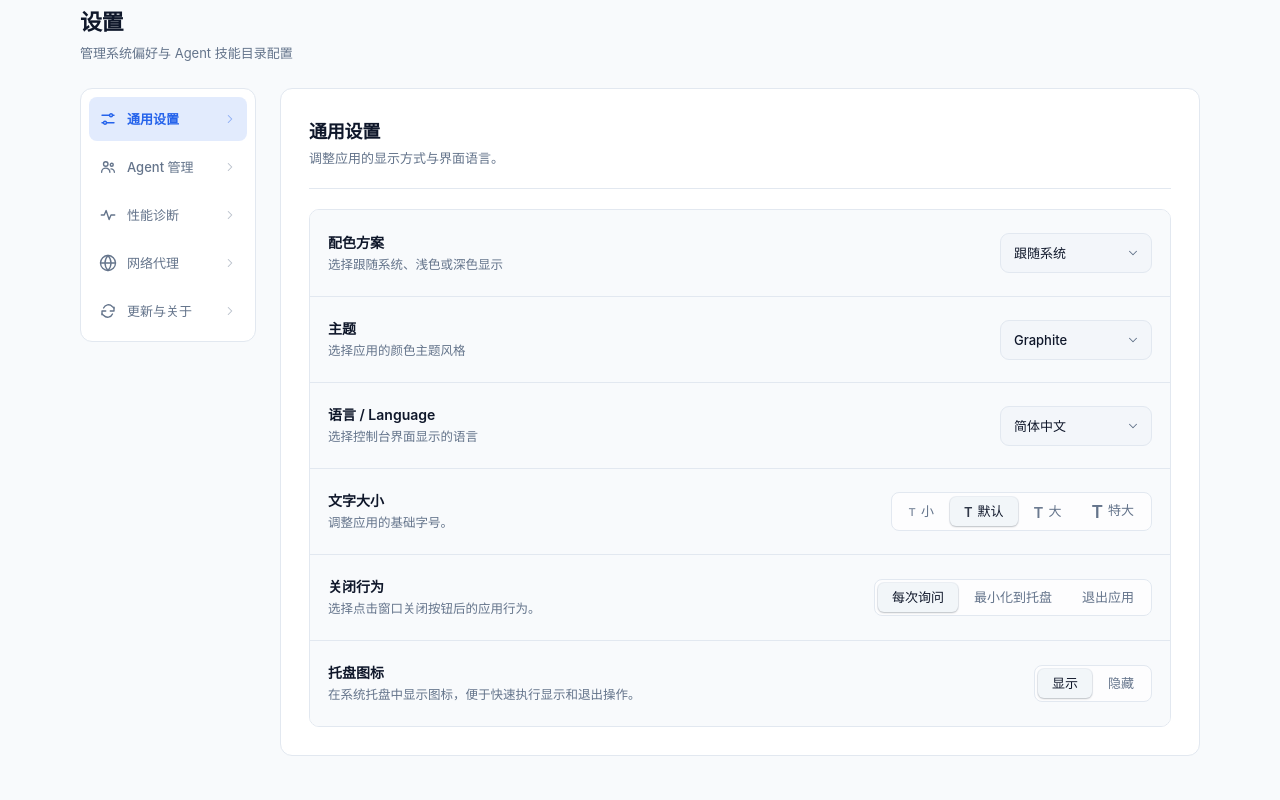
Test: Settings route & i18n / Theme Switcher › uses category navigation and displays one settings panel at a time
Check: the navigation bar named "设置分类" is shown, box [80, 88, 256, 342]
Check: the heading "配色方案" is shown, box [328, 234, 384, 251]
Click the button "Agent 管理": click(168, 166) [89, 144, 247, 188]
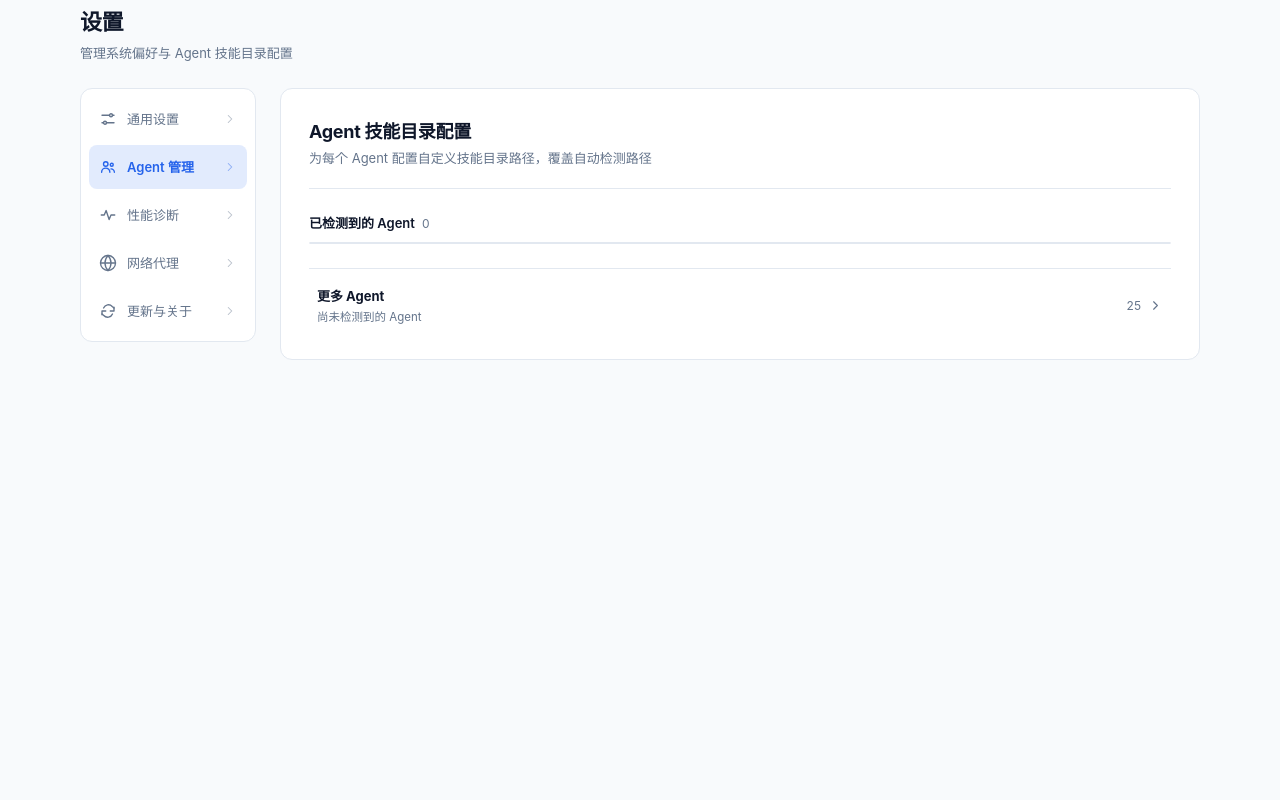
Check: the heading "Agent 技能目录配置" is shown, box [309, 120, 471, 142]
Check: the heading "配色方案" is gone
